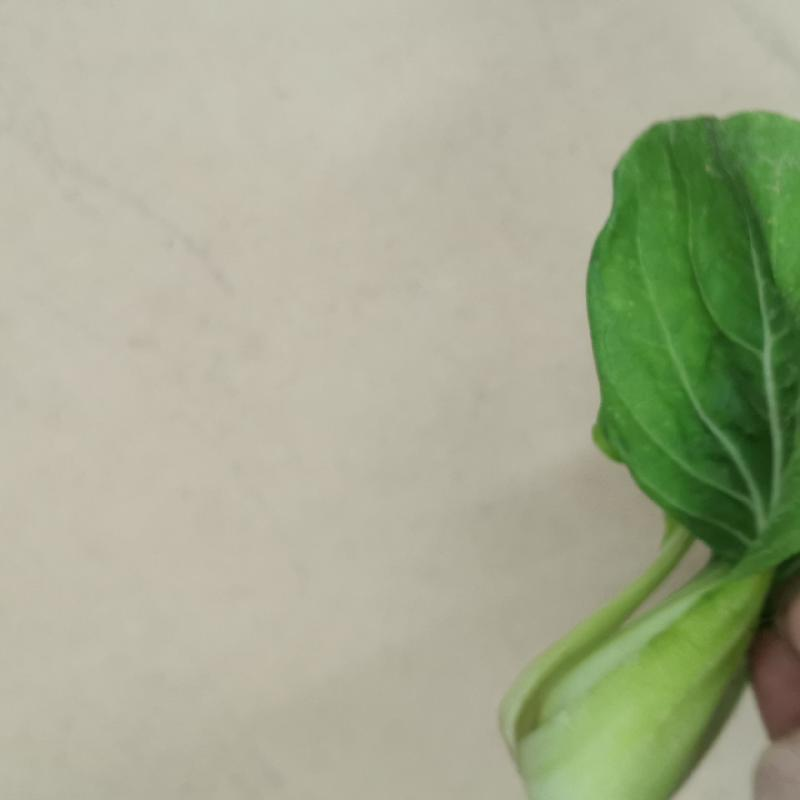green vegatable: (493, 105, 800, 799)
